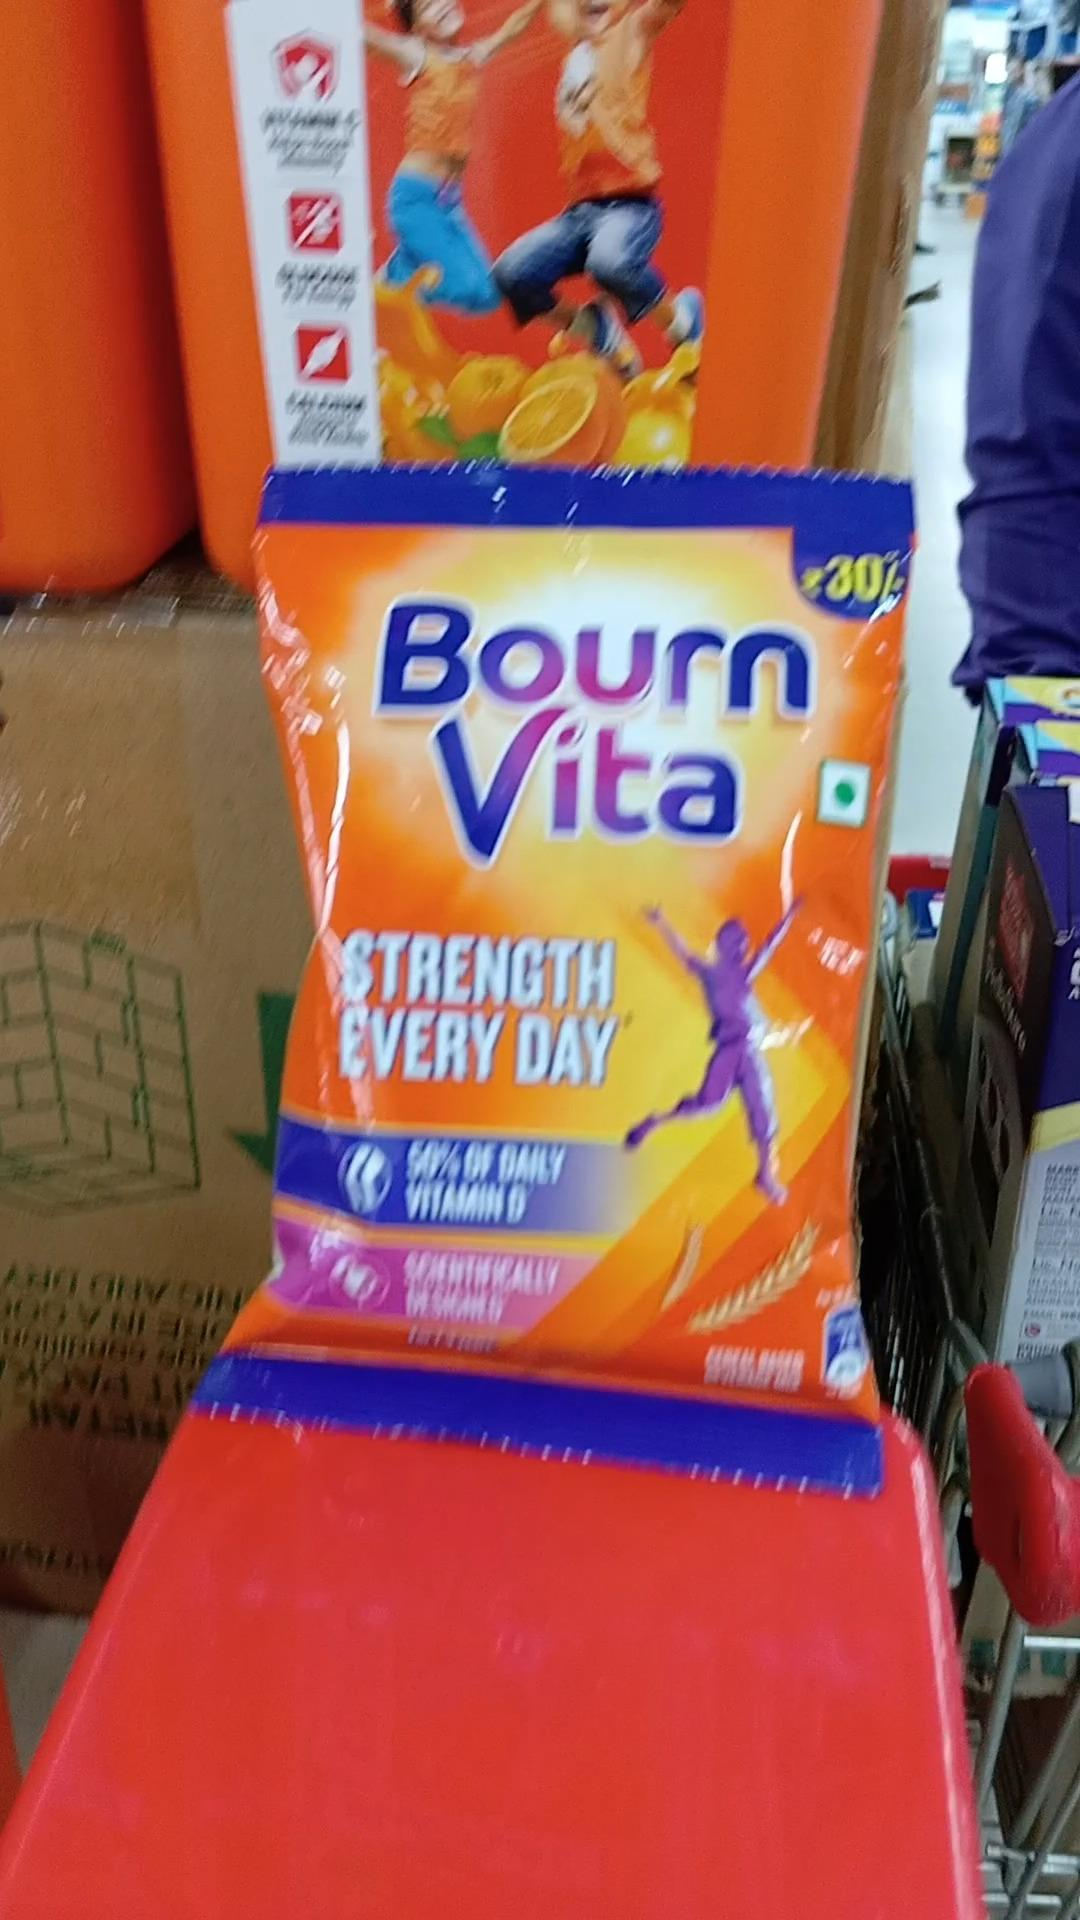BOURN_VITA_75_G_POUCH: (262, 481, 890, 1486)
